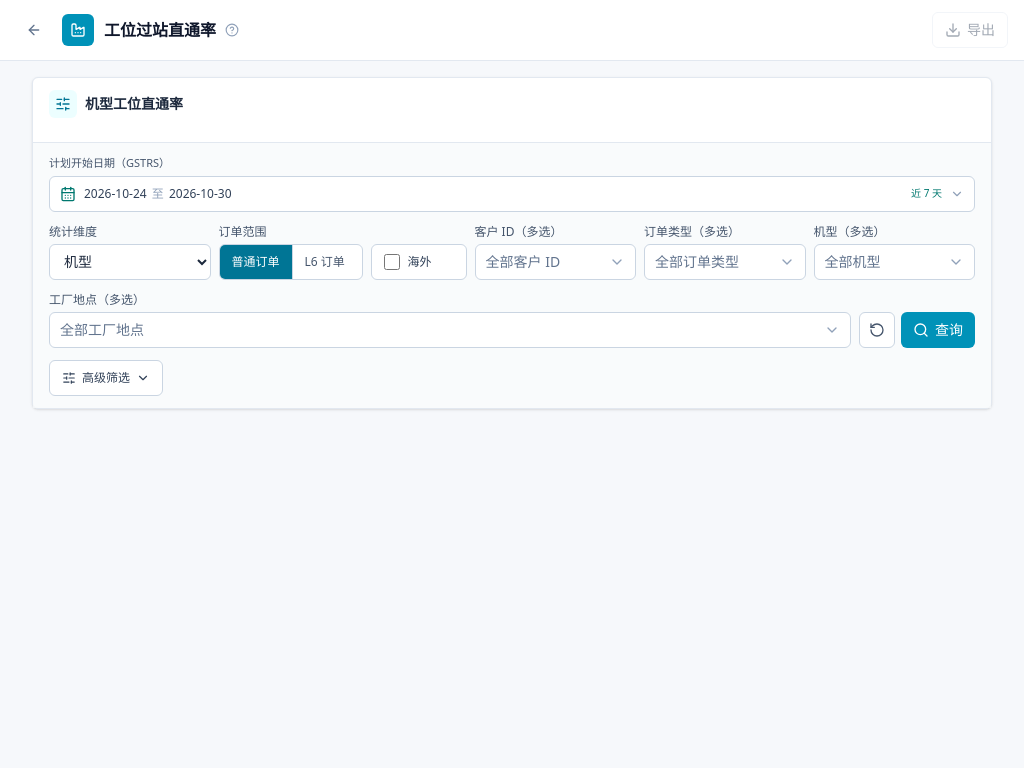
Test: StationPassRatePage customer filter › allows administrators to persist station selection
Click the button "查询" at (938, 330), box [901,312,975,348]
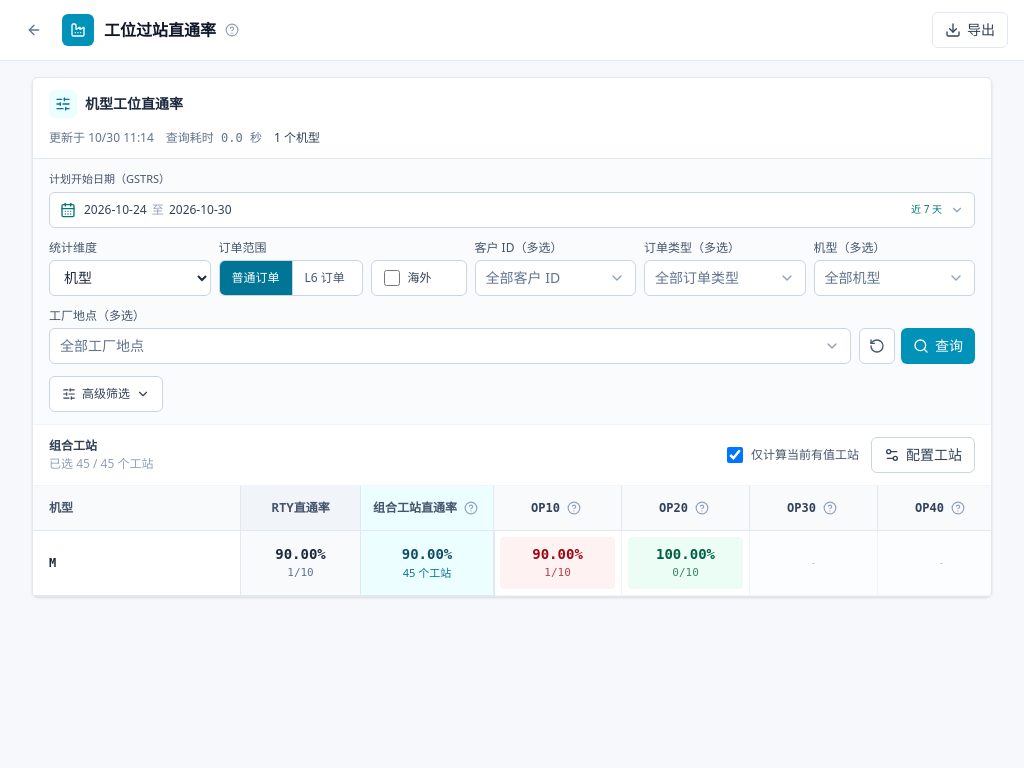
Click the button "配置工站" at (923, 454), box [871,436,975,472]
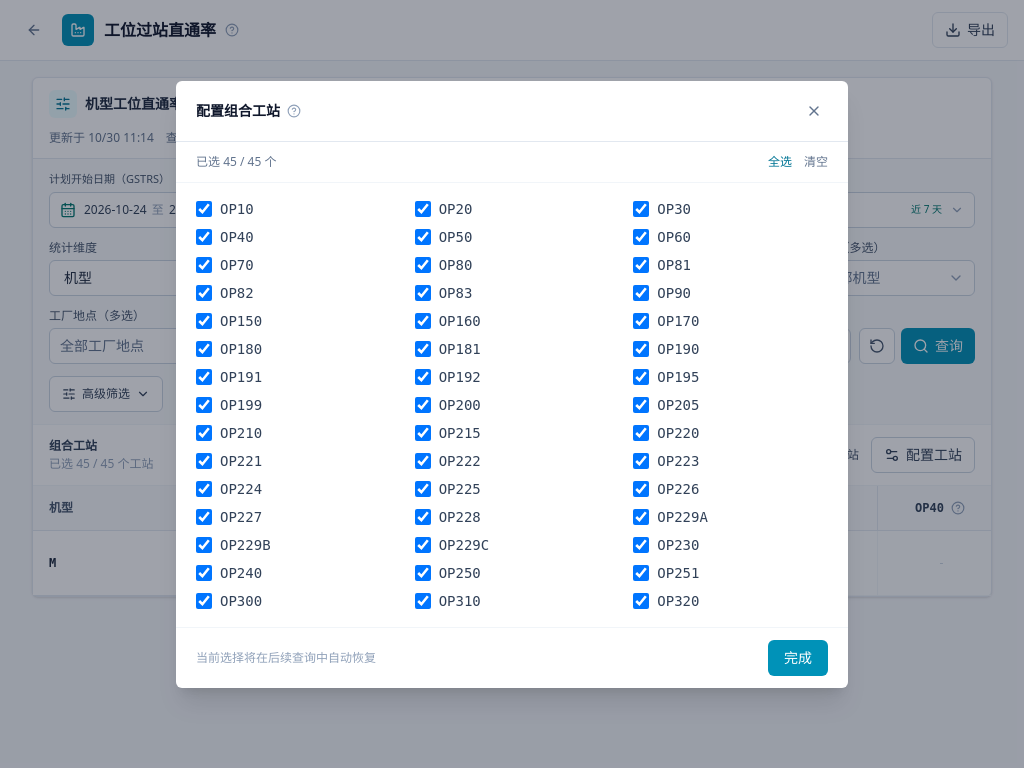
Click the button "清空" at (816, 162), box [804,154,828,170]
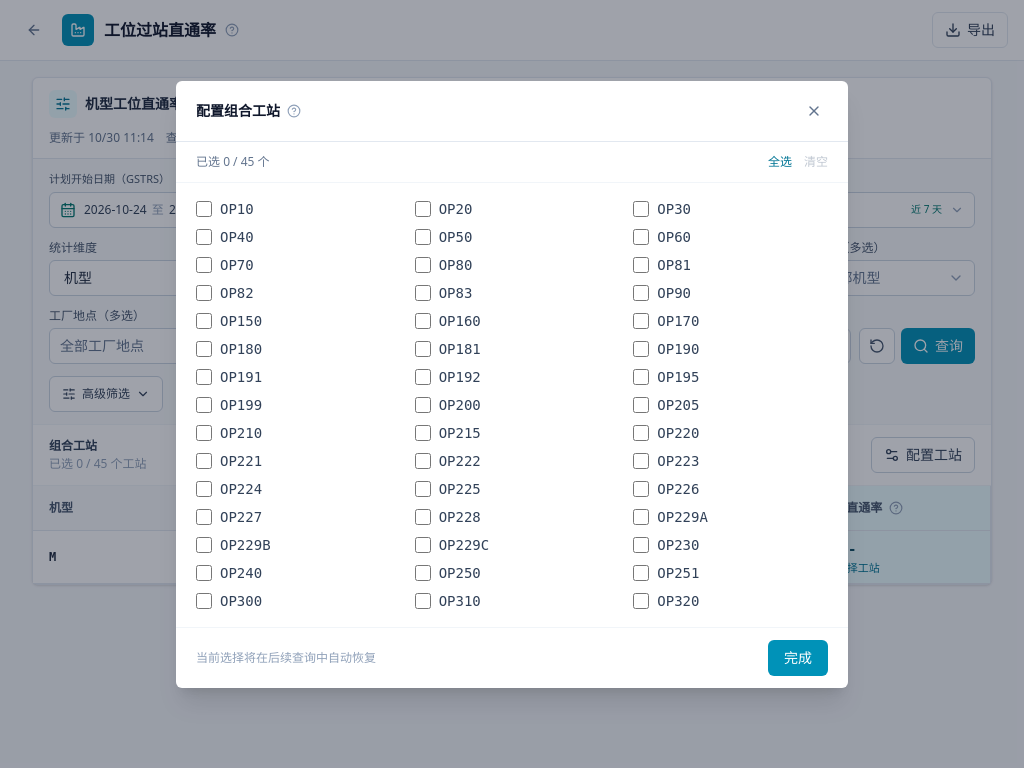
Click the checkbox labelled "OP10" at (204, 208), box [196,200,212,216]
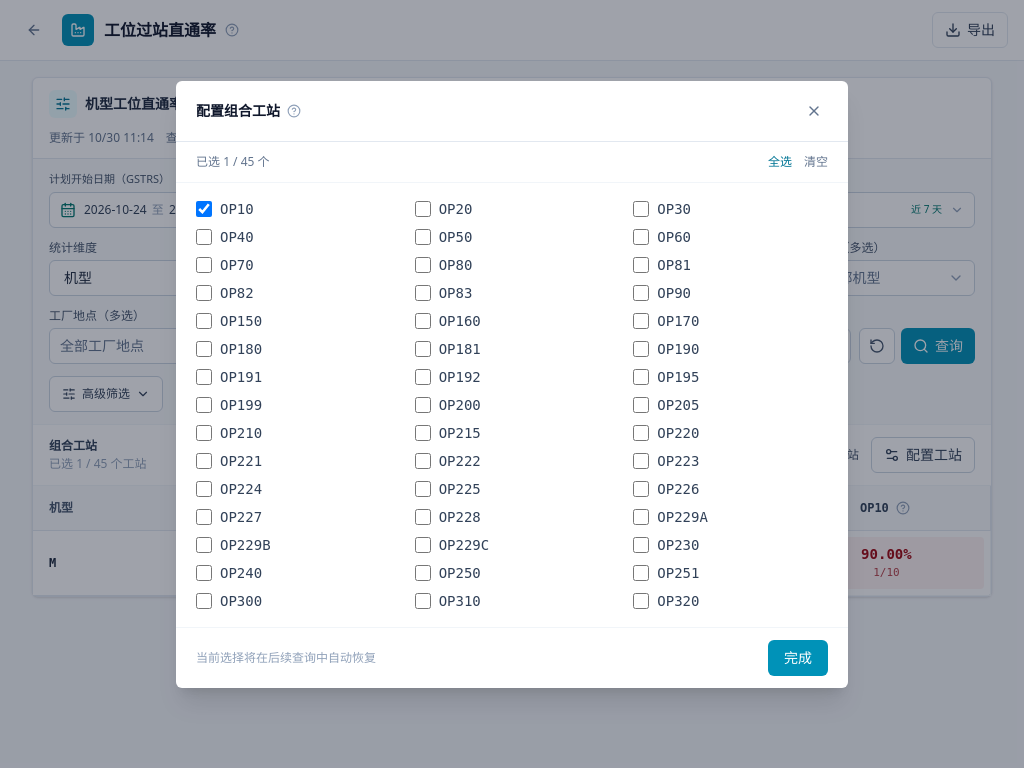
Click the button "完成" at (798, 658), box [768,640,828,676]
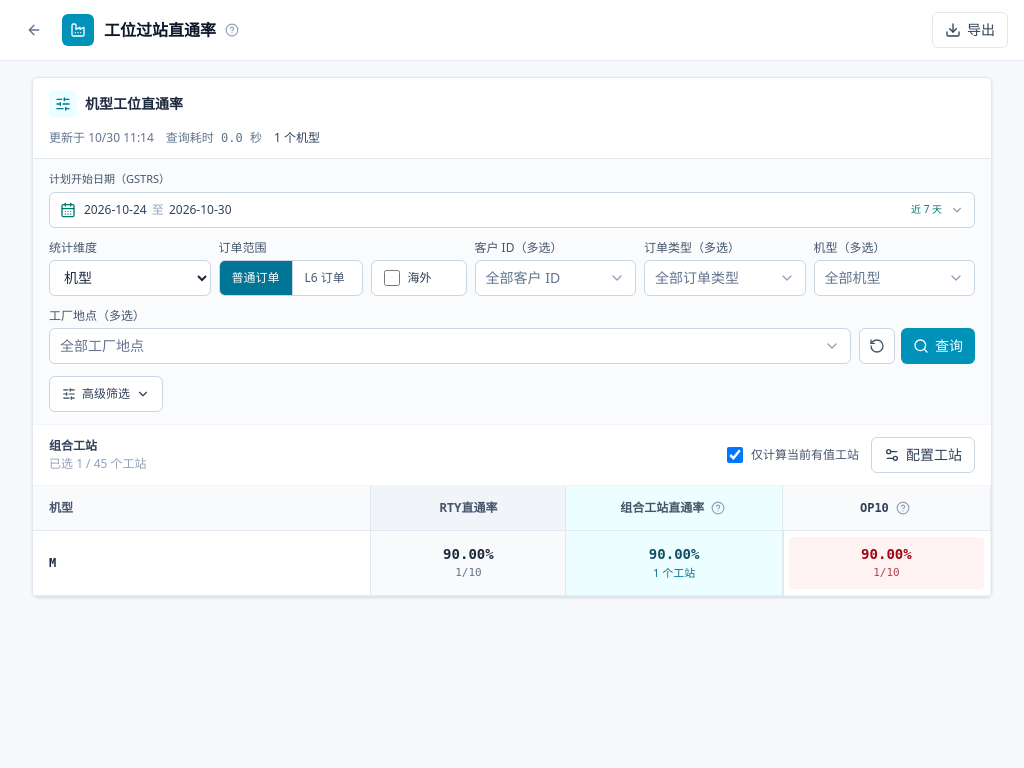
Expected: the column heading "OP10" is shown, [783,486,991,530]
Expected: the dialog is gone
Expected: the text "OP20" is gone
